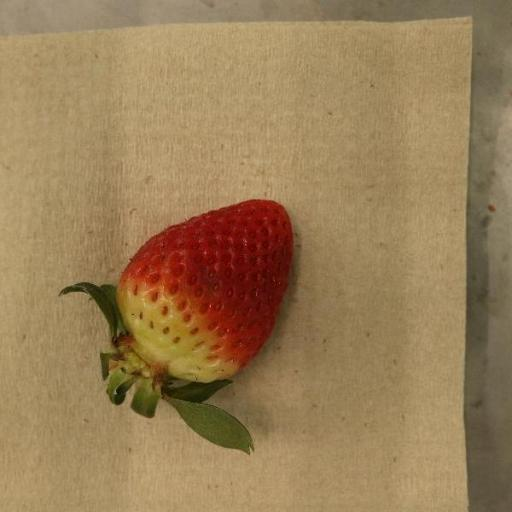Strawberry: (60, 199, 294, 455)
